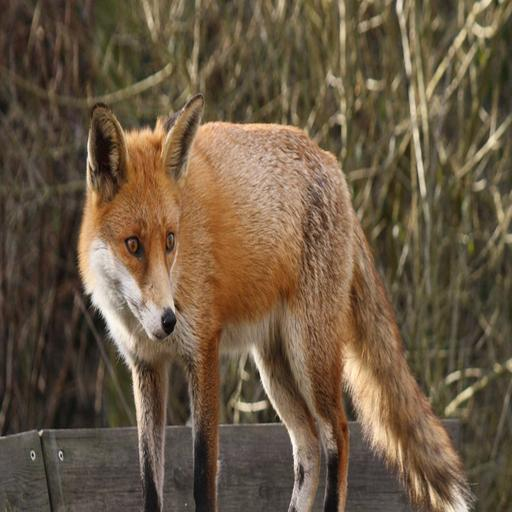Fox: (75, 94, 474, 512)
